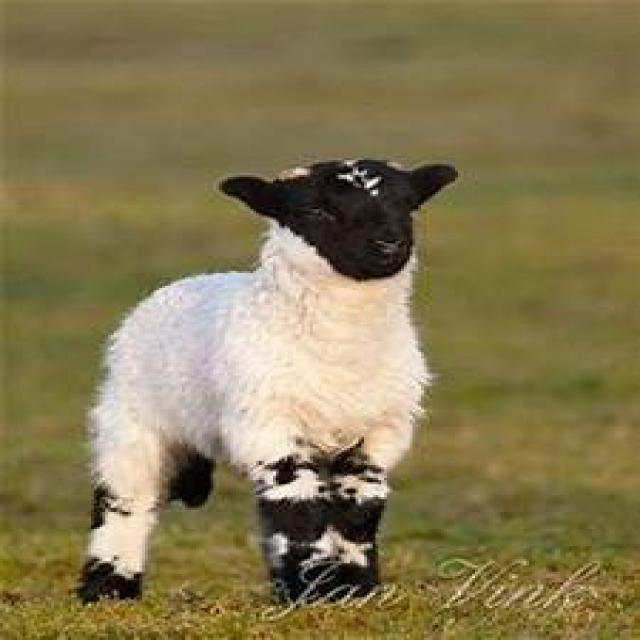sheep: (68, 153, 458, 606)
